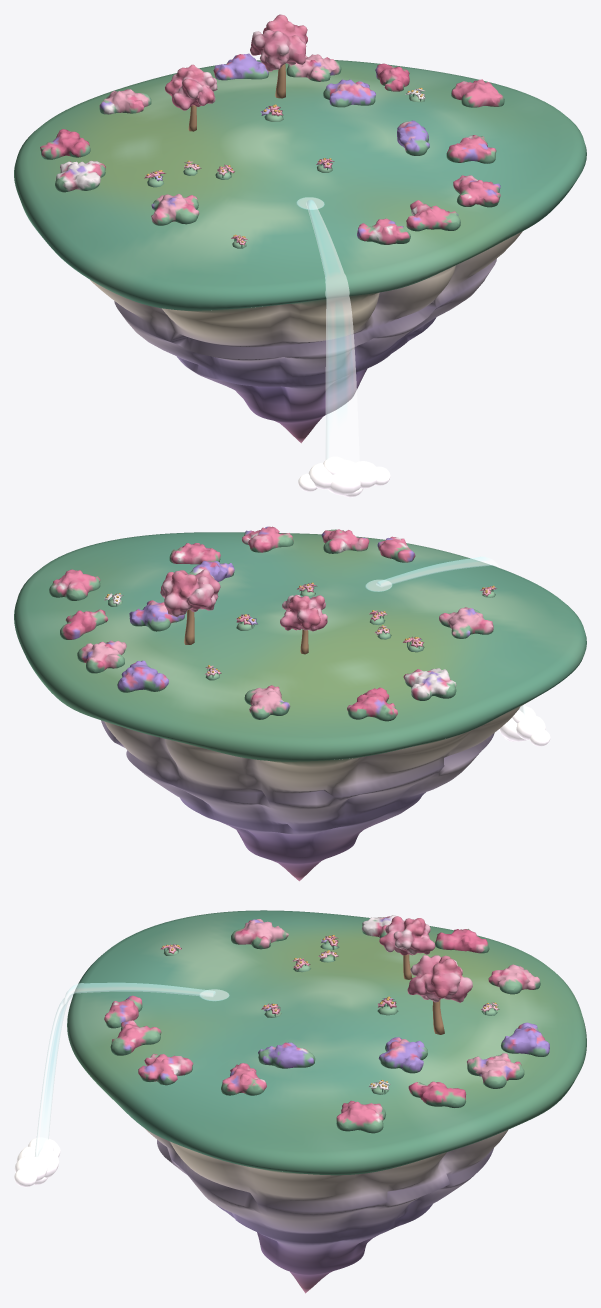
Rendered from island-large.glb.
The picture shows the model from 3 angles, top to bottom: view 1: azimuth 30°, elevation 25°; view 2: azimuth 150°, elevation 25°; view 3: azimuth 270°, elevation 25°; orthographic projection. The views are drawn at different scales.
Visible parts, largest first — view 1: island-large; view 2: island-large; view 3: island-large.
Part boxes in pixels (x1,y1,x2,y2): island-large: [14, 14, 586, 497]; island-large: [14, 526, 586, 881]; island-large: [14, 910, 586, 1293].
Size of the model in its own units: 20 by 13.33 by 19.24.
